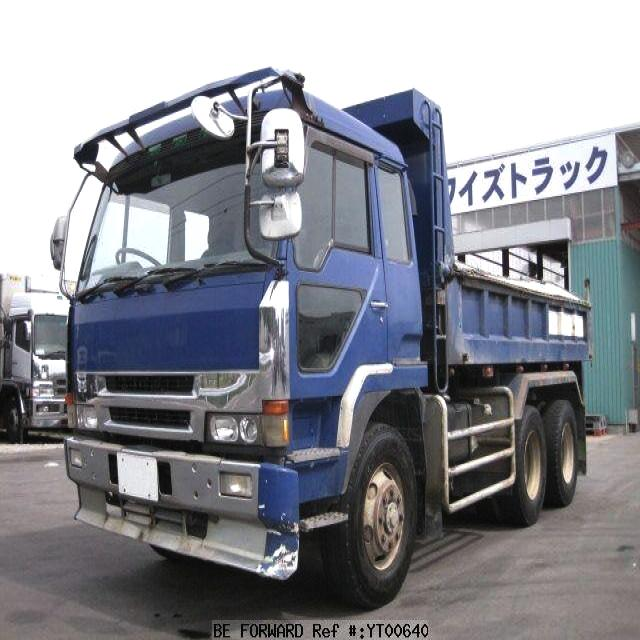truck: (53, 62, 595, 608)
